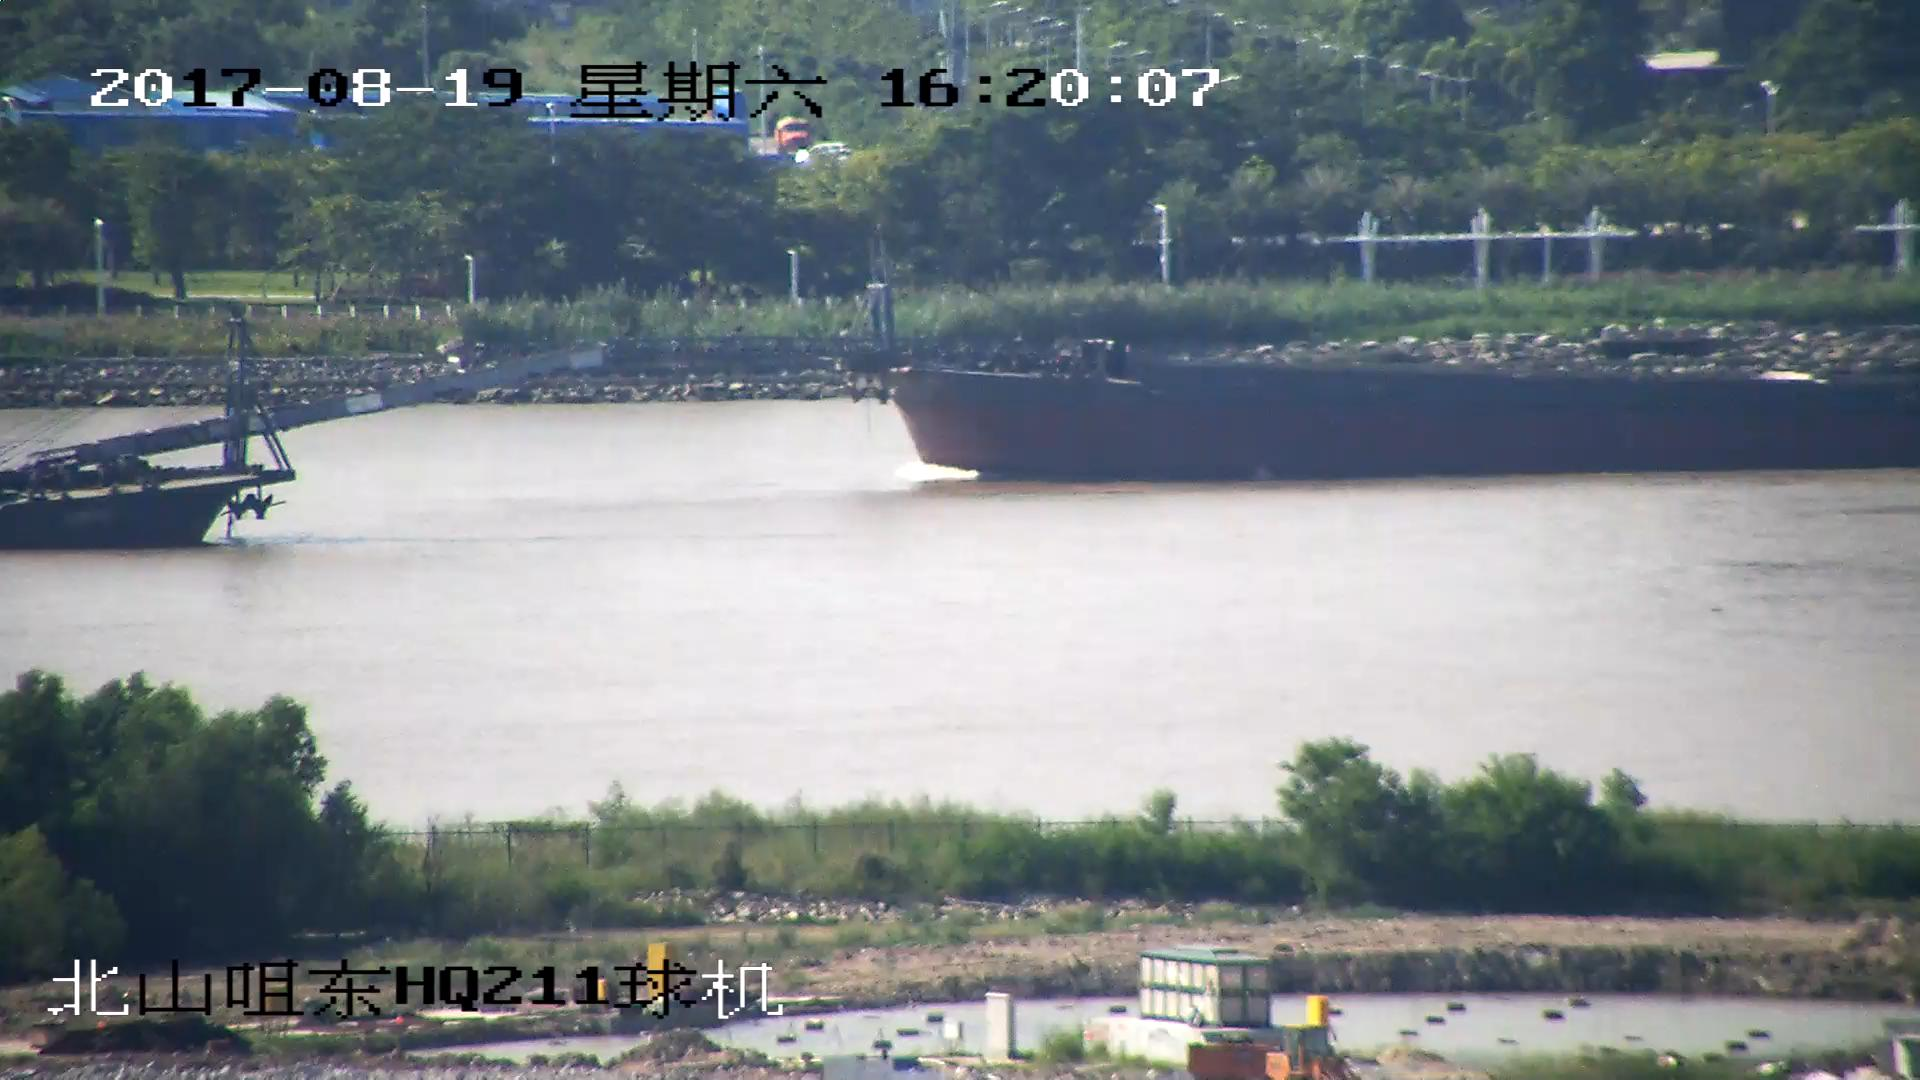bulk cargo carrier: (552, 235, 1920, 487)
ore carrier: (1, 299, 600, 549)
